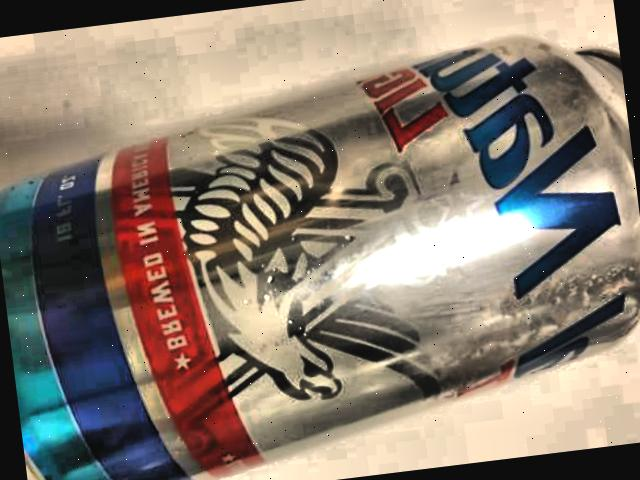Bottles: (0, 11, 640, 480)
